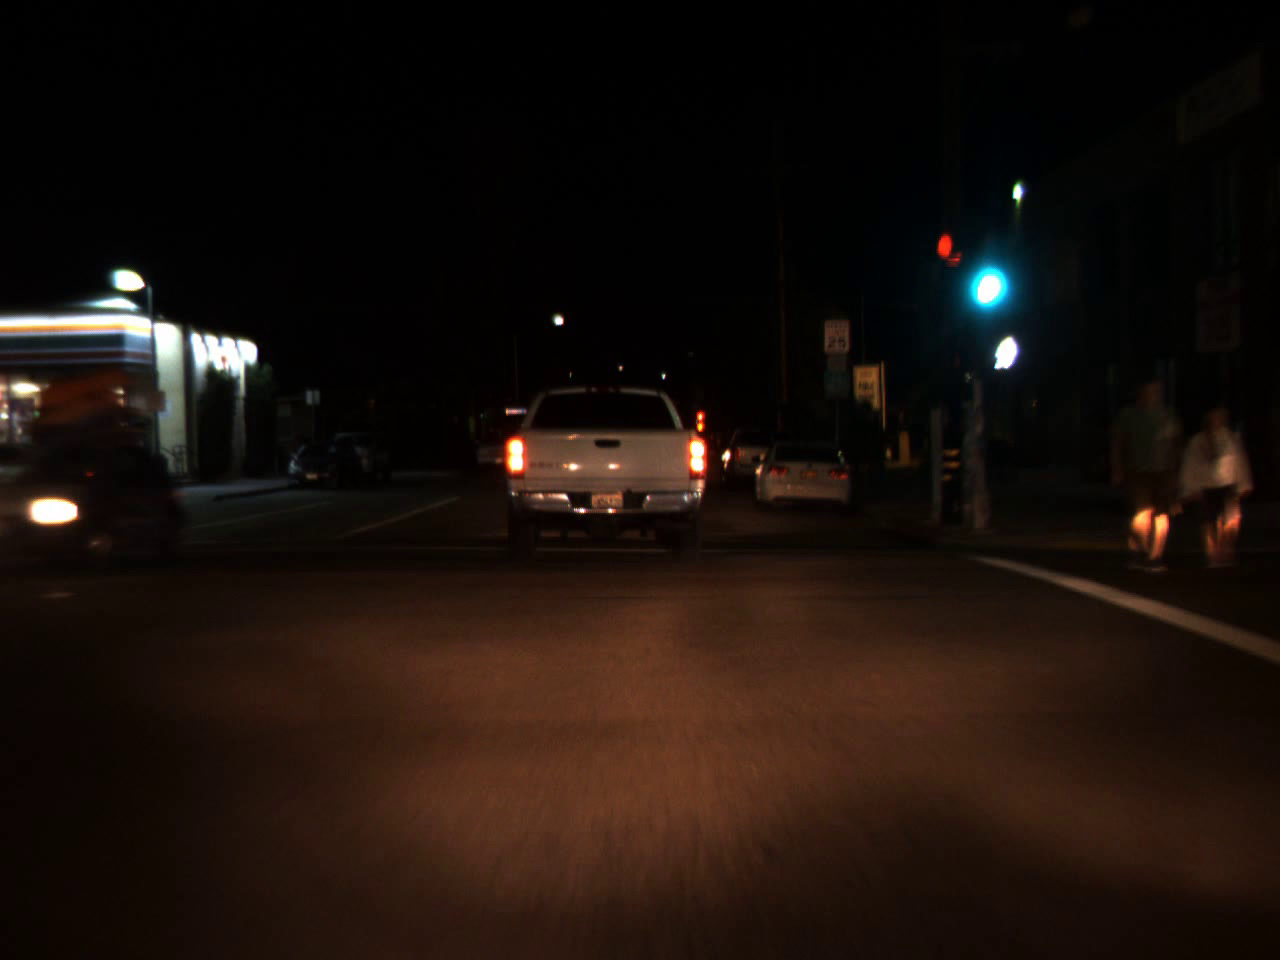go: (959, 229, 1007, 316)
stop: (695, 408, 703, 432)
